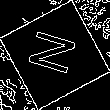N_E: (25, 28, 85, 82)
